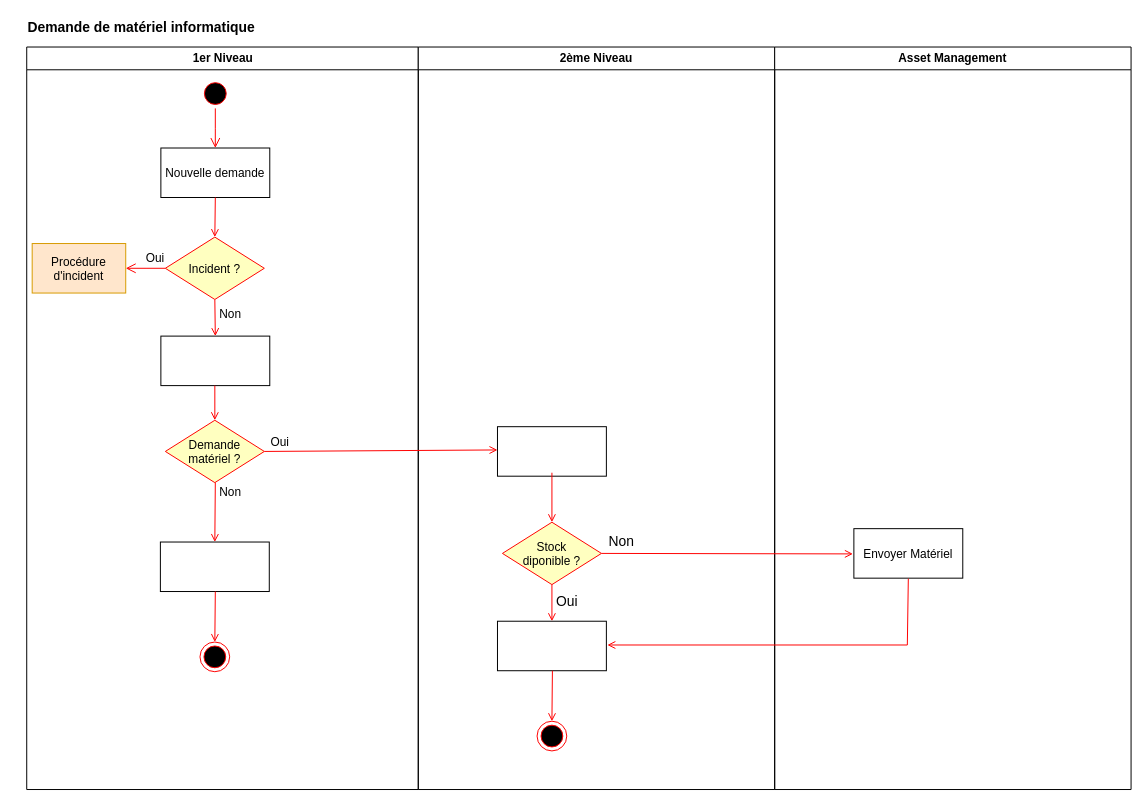
Image size: 1148x807. Some labels were removed from this diagram. The centre of each missing label's shape, as x and y in pixels:
Créer ticket "Request": [215,360]
Livrer commande: [551,645]
Traiter demande: [214,566]
Vérifier stock sur site: [551,451]
